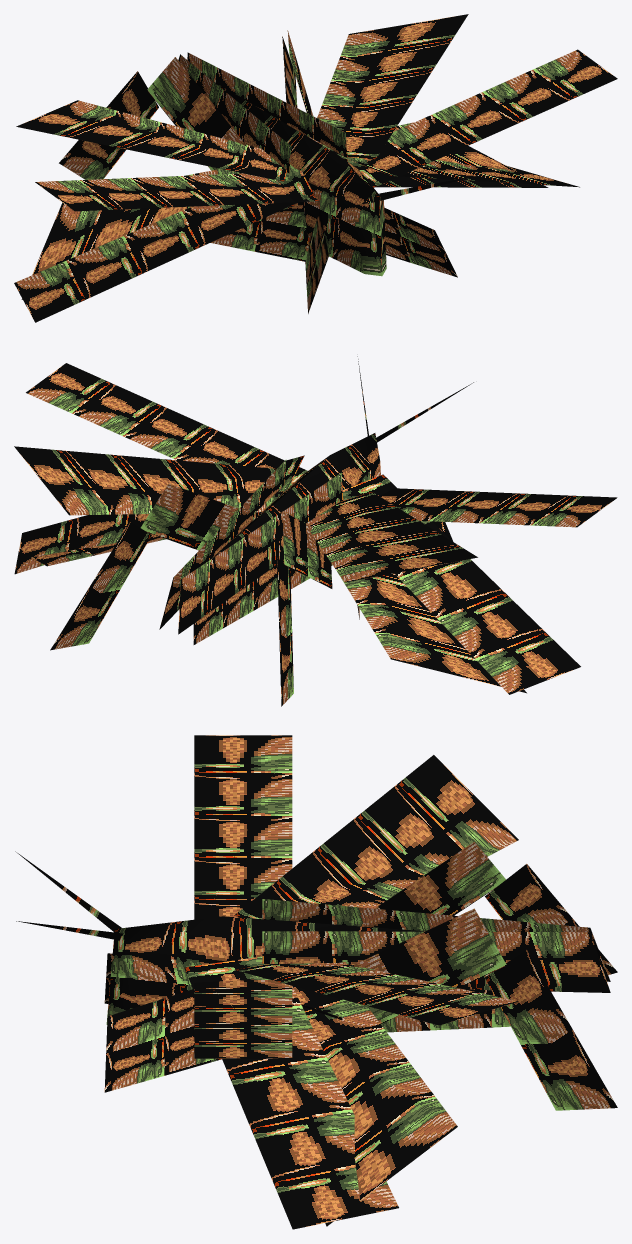
Rendered from 5017musi27.gltf.
3 views of the same model, one above another, from view 1: azimuth 30°, elevation 25°; view 2: azimuth 150°, elevation 25°; view 3: azimuth 270°, elevation 25° (orthographic). The views are drawn at different scales.
Visible parts, largest first — view 1: 5017musi27; view 2: 5017musi27; view 3: 5017musi27.
Part boxes in pixels (x1=…): 5017musi27: x1=14, y1=14, x2=617, y2=322; 5017musi27: x1=14, y1=356, x2=617, y2=706; 5017musi27: x1=15, y1=735, x2=617, y2=1229.
Size of the model in its own units: 0.3887 by 0.1106 by 0.3042.
Materials: 1 (1 with a texture image).
